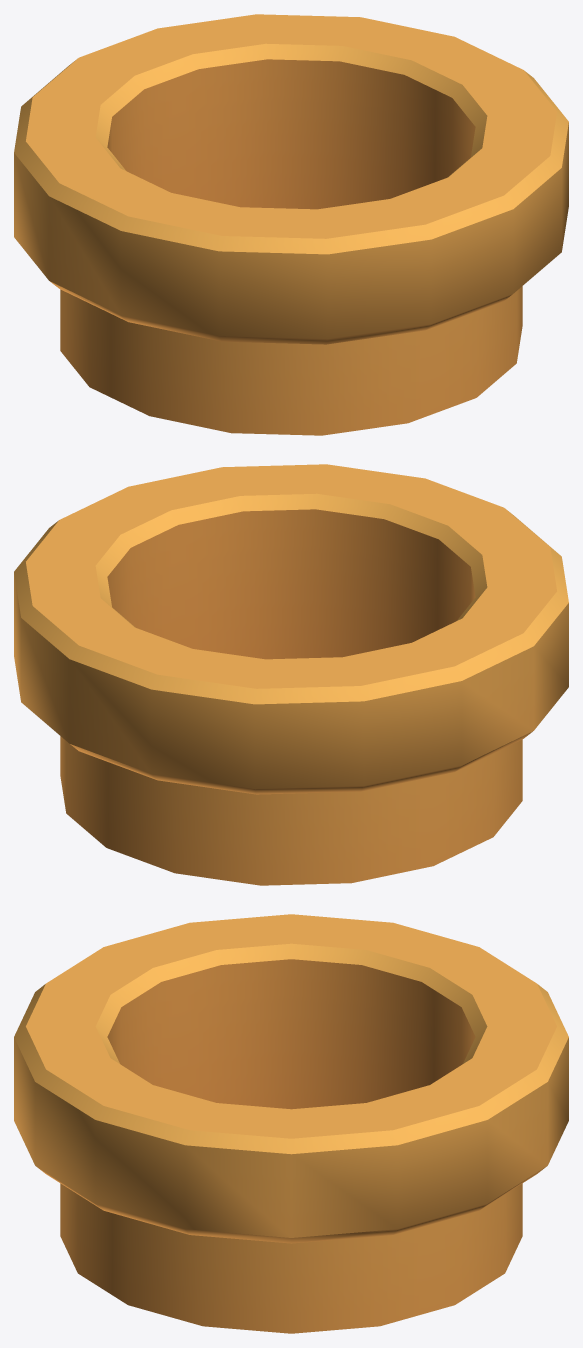
Rendered from pipe_end_yellow.glb.
3 renders of one model, top to bottom at view 1: azimuth 30°, elevation 25°; view 2: azimuth 150°, elevation 25°; view 3: azimuth 270°, elevation 25°, orthographic.
Visible parts, largest first — view 1: pipe_end_yellow; view 2: pipe_end_yellow; view 3: pipe_end_yellow.
Boxes of the visible parts, x1=… form: pipe_end_yellow: x1=14, y1=14, x2=568, y2=435; pipe_end_yellow: x1=14, y1=464, x2=568, y2=885; pipe_end_yellow: x1=14, y1=914, x2=568, y2=1333.
Size of the model in its own units: 2.4 by 1 by 2.4.
Materials: 1 (1 with a texture image).
